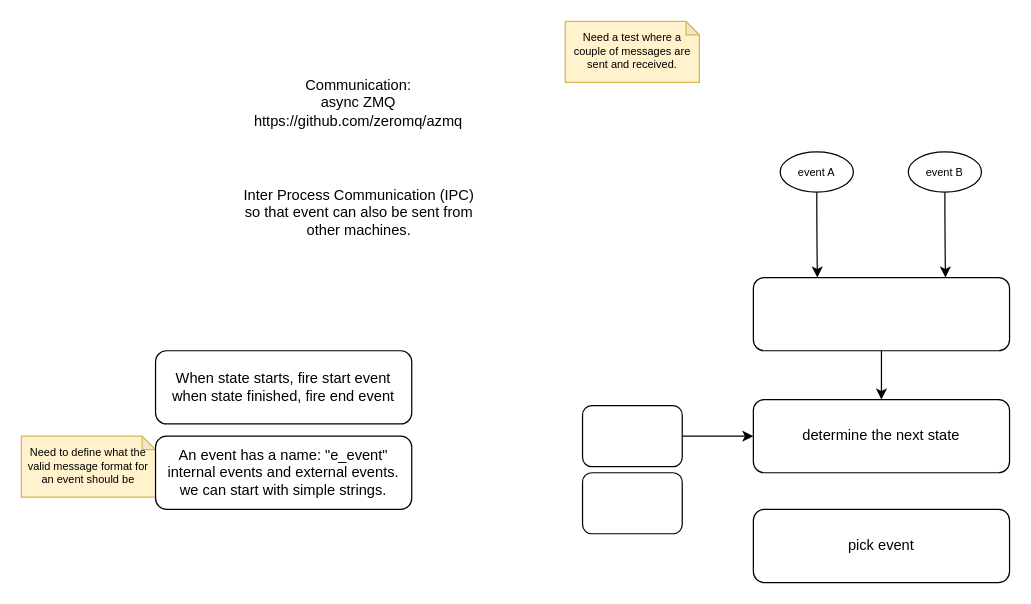
Some shapes in this 1031 by 604 pixel diagram are drawn without their labels. Here are the shapes that lost their labels. From the top down, the centre of each, then its label:
At (881,313): "queue".
At (631,435): "list of available states".
At (631,503): "list of available transitions from one state".
